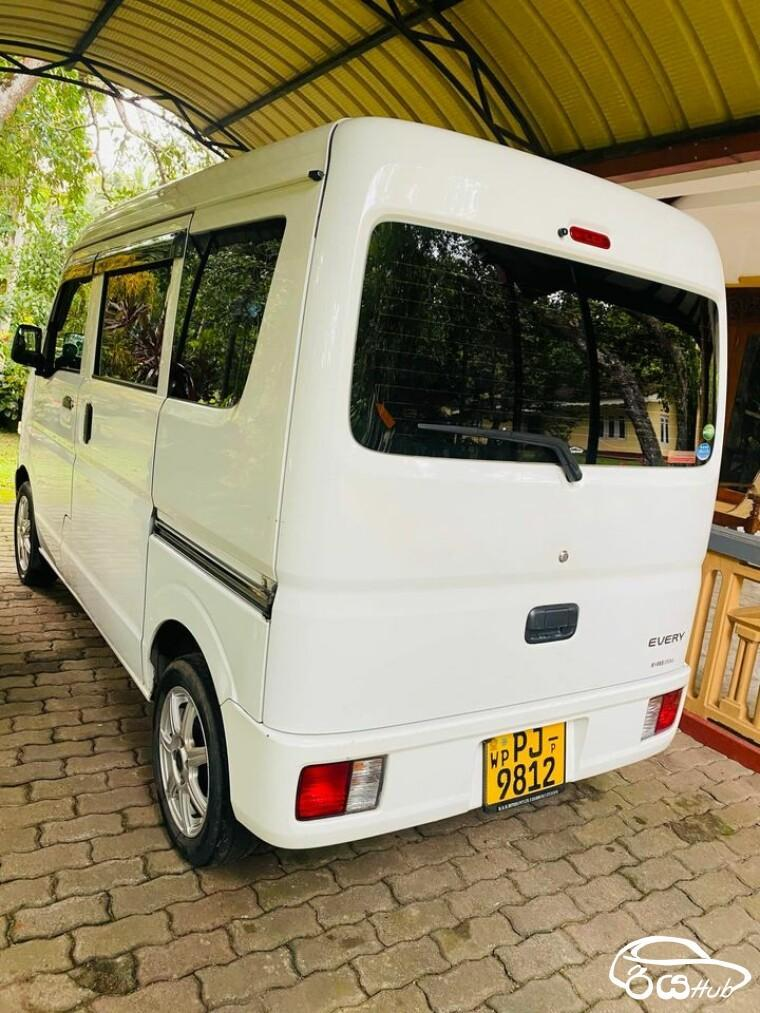car: (6, 113, 738, 885)
